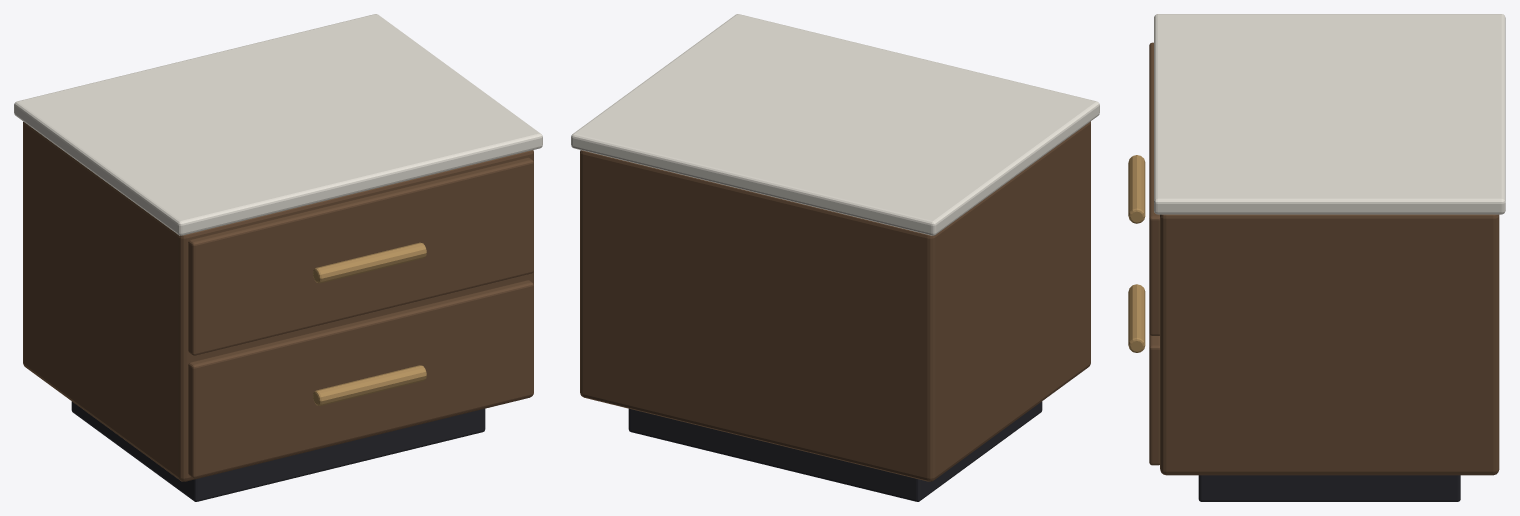
The model's file is nightstand.glb.
3 renders of one model, left to right at view 1: azimuth 30°, elevation 25°; view 2: azimuth 150°, elevation 25°; view 3: azimuth 270°, elevation 25°, orthographic. The views are drawn at different scales.
Parts seen in each view (by area): view 1: night_top, night_body, night_front_1, night_front_0, night_plinth, night_pull_0, night_pull_1; view 2: night_body, night_top, night_plinth; view 3: night_body, night_top, night_plinth, night_front_1, night_front_0, night_pull_1, night_pull_0.
Boxes of the visible parts, x1,y1,x2,y2 form: night_top: [14, 14, 542, 235]; night_body: [23, 121, 533, 481]; night_front_1: [188, 157, 533, 355]; night_front_0: [188, 280, 533, 478]; night_plinth: [71, 401, 485, 501]; night_pull_0: [313, 365, 426, 405]; night_pull_1: [313, 242, 426, 283]; night_body: [580, 121, 1090, 481]; night_top: [571, 14, 1099, 235]; night_plinth: [628, 401, 1042, 501]; night_body: [1160, 214, 1499, 475]; night_top: [1154, 14, 1505, 214]; night_plinth: [1198, 475, 1460, 501]; night_front_1: [1149, 42, 1159, 335]; night_front_0: [1149, 334, 1159, 465]; night_pull_1: [1128, 155, 1145, 223]; night_pull_0: [1128, 284, 1145, 352].
Size of the model in its own units: 0.576 by 0.46 by 0.489.
